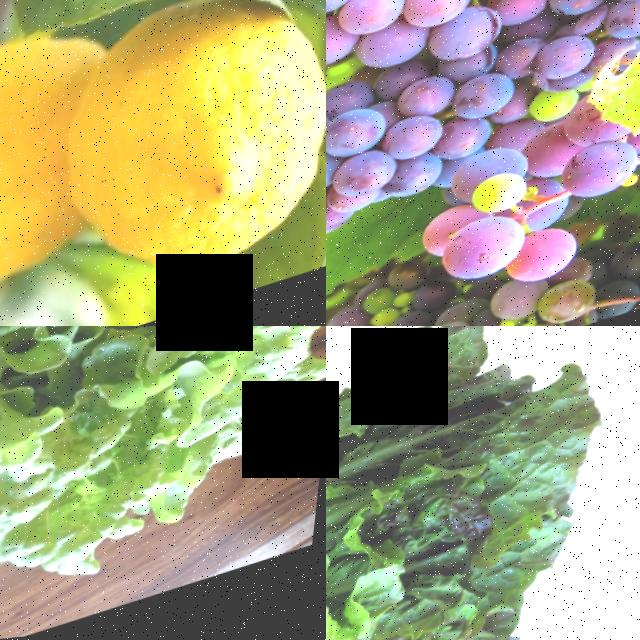grapes: (326, 8, 625, 255), (414, 125, 640, 320), (326, 0, 637, 128)
lemon: (41, 0, 326, 314), (0, 32, 118, 326)
lettuce: (326, 326, 640, 640), (0, 326, 326, 612)
